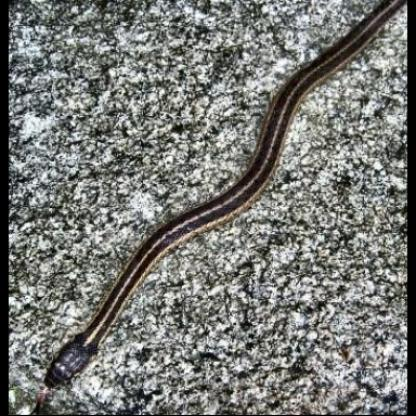Snake: (101, 180, 276, 319), (39, 298, 114, 399)
